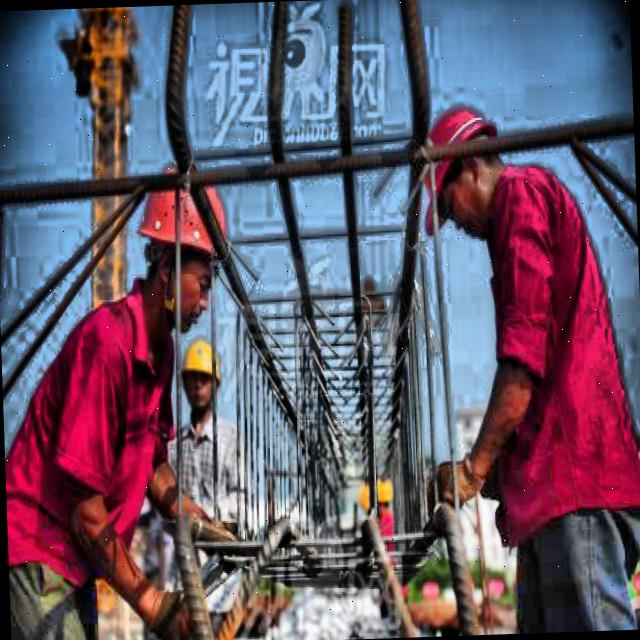helmet: (136, 177, 220, 326), (417, 100, 512, 220), (179, 330, 218, 412)
